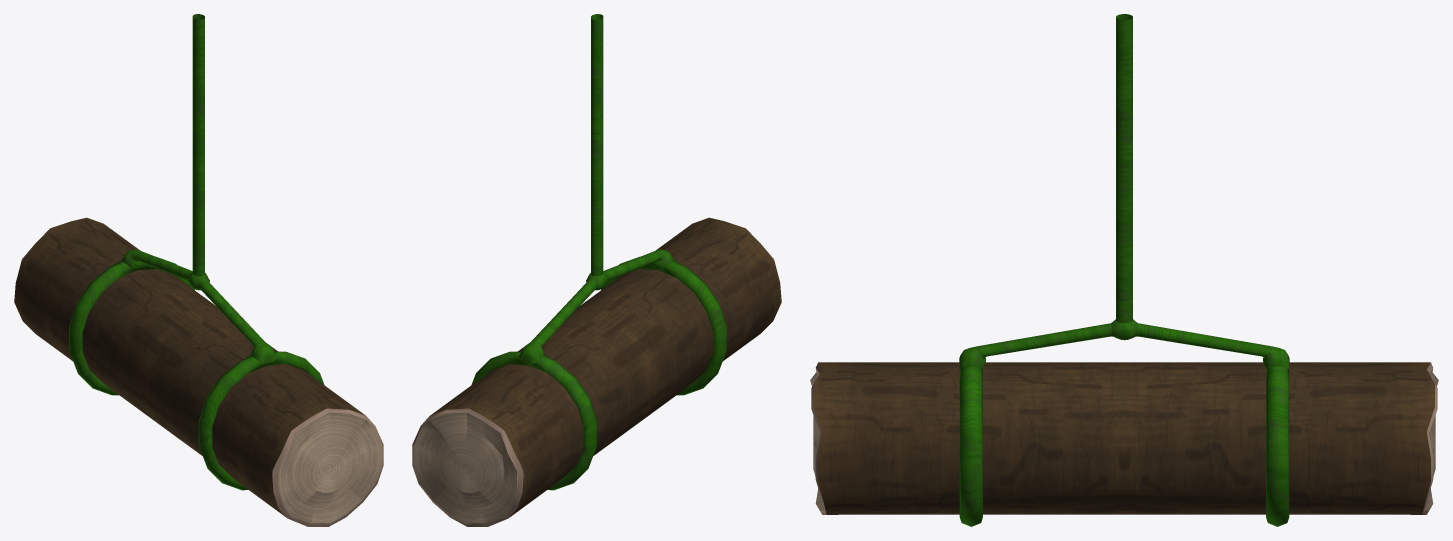
File: Pendulo de Madeira.fbx
3 views of the same model, side by side, from view 1: azimuth 30°, elevation 25°; view 2: azimuth 150°, elevation 25°; view 3: azimuth 270°, elevation 25° (orthographic). The views are drawn at different scales.
Parts seen in each view (by area): view 1: Cylinder; view 2: Cylinder; view 3: Cylinder.
Part boxes in pixels (x1,y1,x2,y2): Cylinder: (14, 14, 383, 526); Cylinder: (412, 14, 781, 526); Cylinder: (810, 14, 1438, 526).
Size of the model in its own units: 423 by 1342 by 1524.
